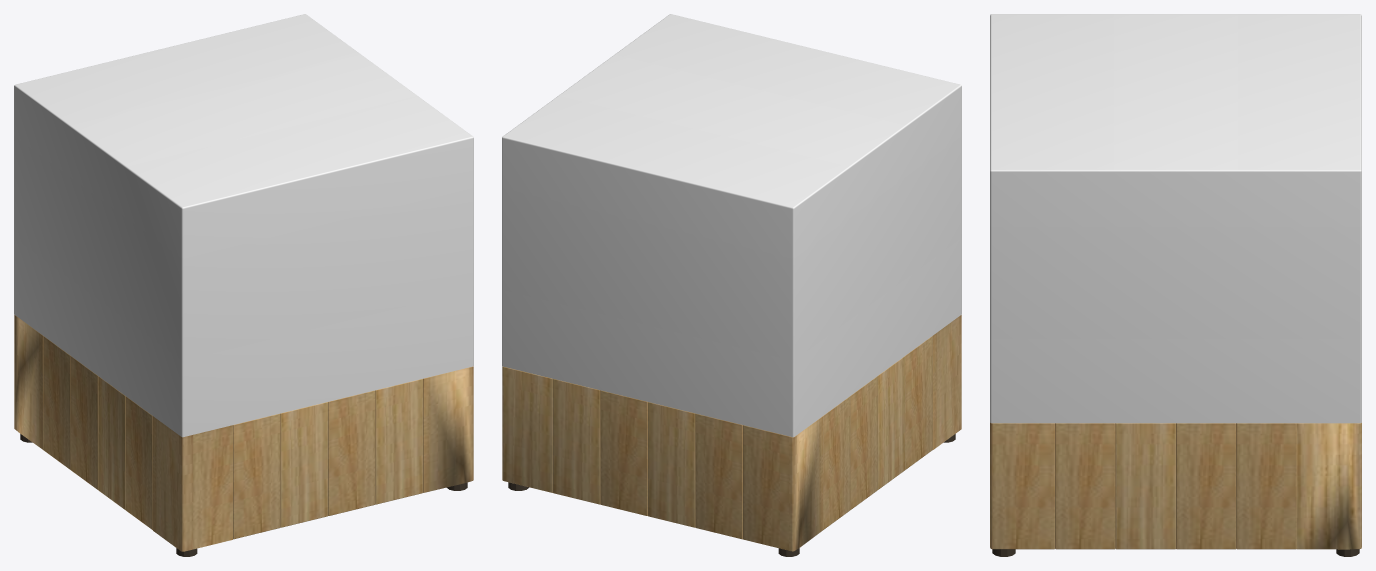
File: sumcube-t-s_topwhite.fbx
The picture shows the model from 3 angles, left to right: view 1: azimuth 30°, elevation 25°; view 2: azimuth 150°, elevation 25°; view 3: azimuth 270°, elevation 25°; orthographic projection. The views are drawn at different scales.
Parts seen in each view (by area): view 1: sumcube-t-s_topwhite; view 2: sumcube-t-s_topwhite; view 3: sumcube-t-s_topwhite.
Boxes of the visible parts, x1,y1,x2,y2 form: sumcube-t-s_topwhite: [14, 14, 473, 556]; sumcube-t-s_topwhite: [502, 14, 961, 556]; sumcube-t-s_topwhite: [990, 14, 1361, 556].
Bounding box in the file's own units: 40 × 46 × 40.
5 materials, 5 textured.
